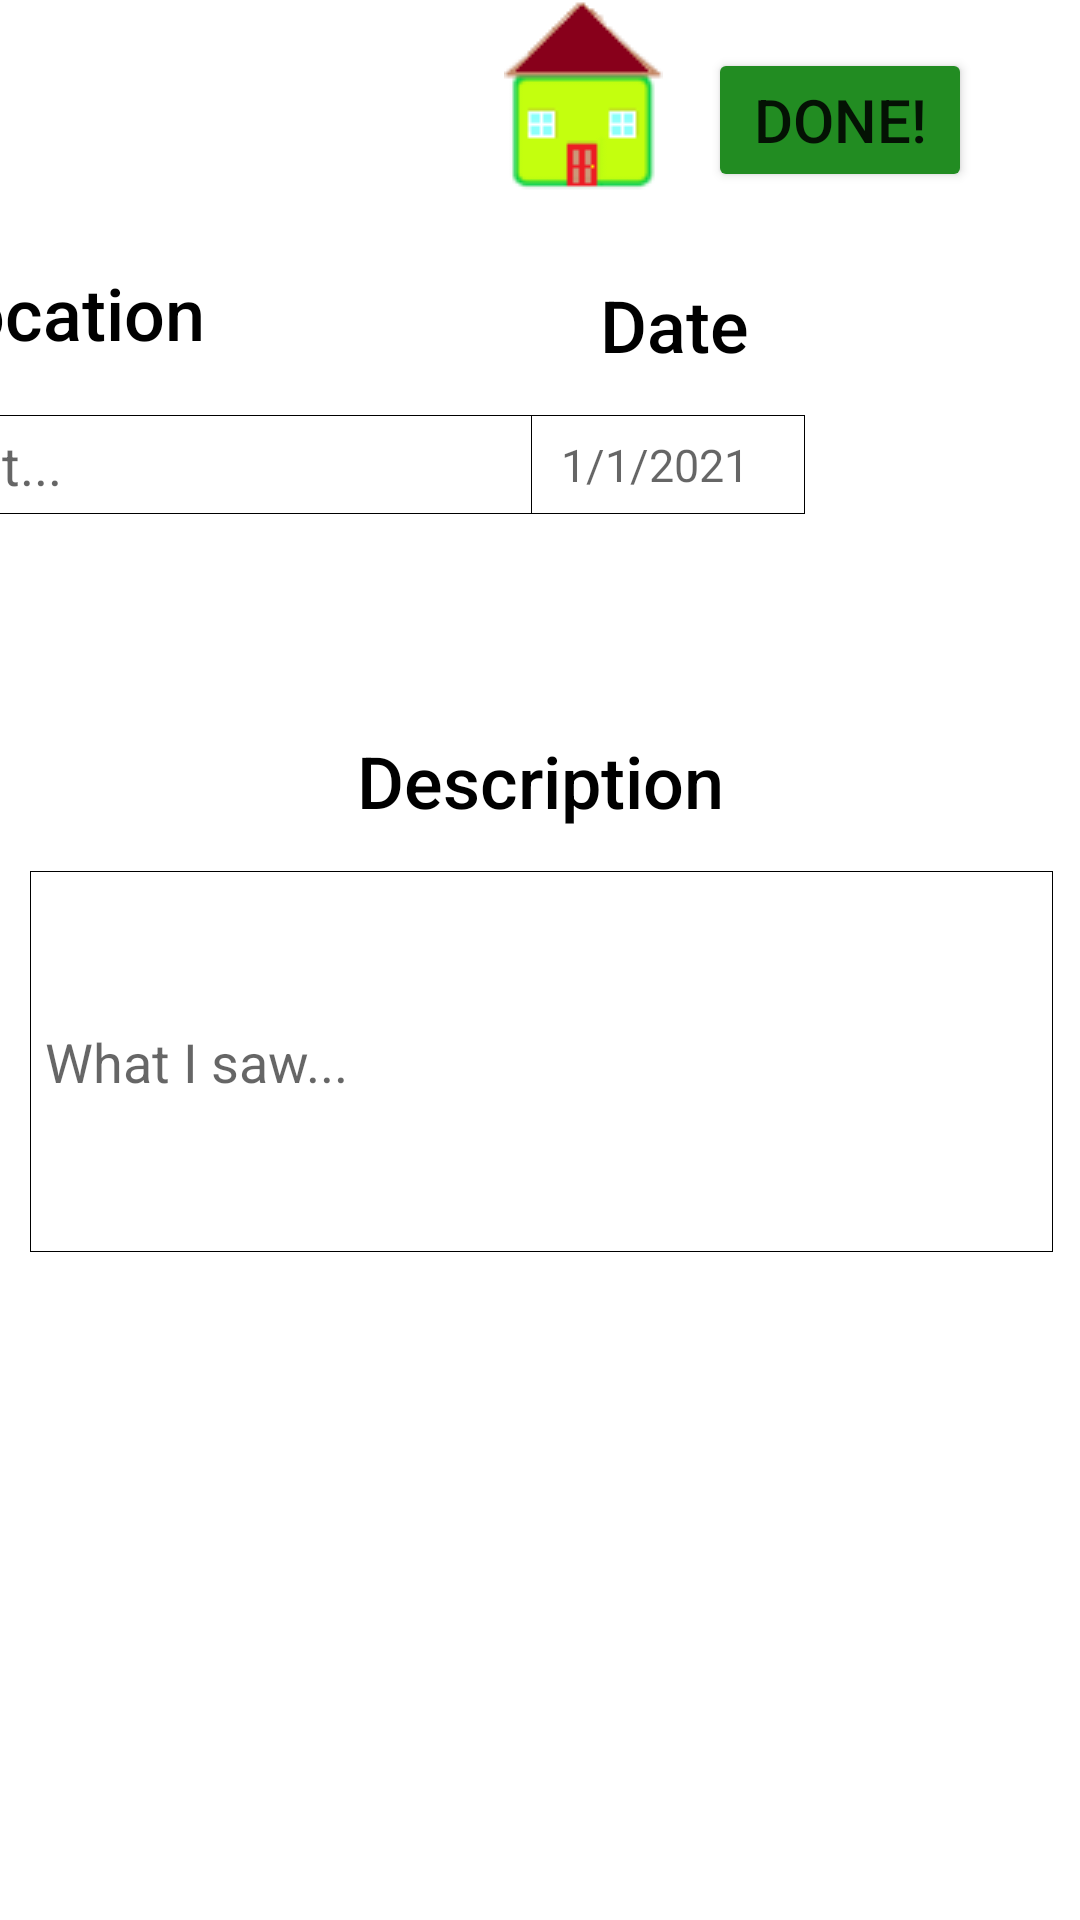

Where icons sit on this 1080×1920 app screen, as bbox=[x1, y1, x2, y2]:
home: bbox=[504, 2, 661, 188]
